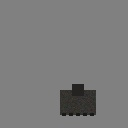armoured_vehicle: (60, 90, 96, 115)
